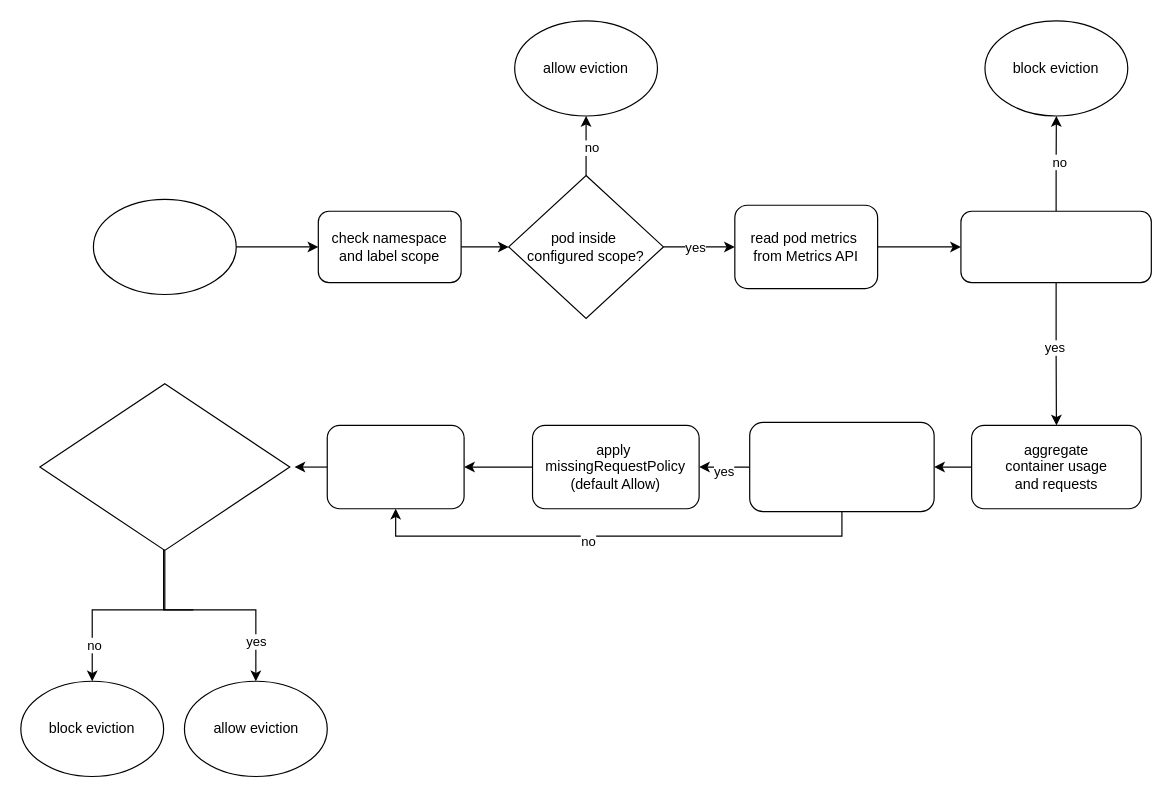
Some shapes in this 1172 by 797 pixel diagram are drawn without their labels. Here are the shapes that lost their labels. From the top down, the centre of each, then its label:
(164,246): actual usage pre-eviction filtering start
(1055,246): metrics available and complete?
(164,466): Candidate count ≥ totalCandidates × threshold
(395,466): compute CPU and memory usage ratios
(841,466): request dimen sion missing?
